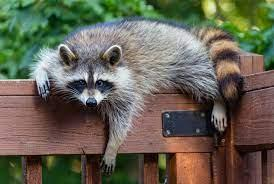raccoon: (24, 10, 249, 180)
